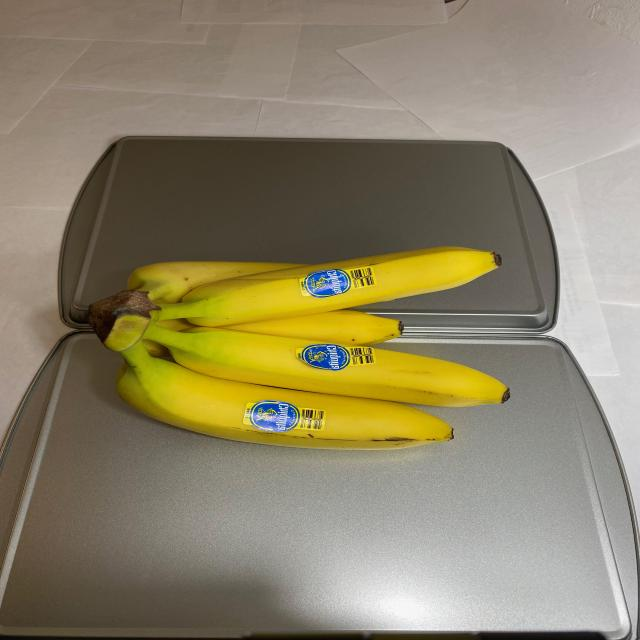Banana: (87, 236, 516, 453)
